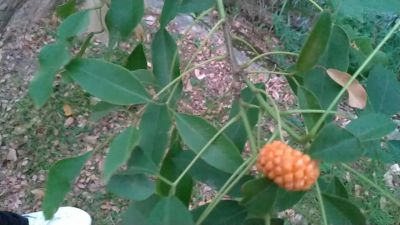eggs: (258, 135, 318, 194)
